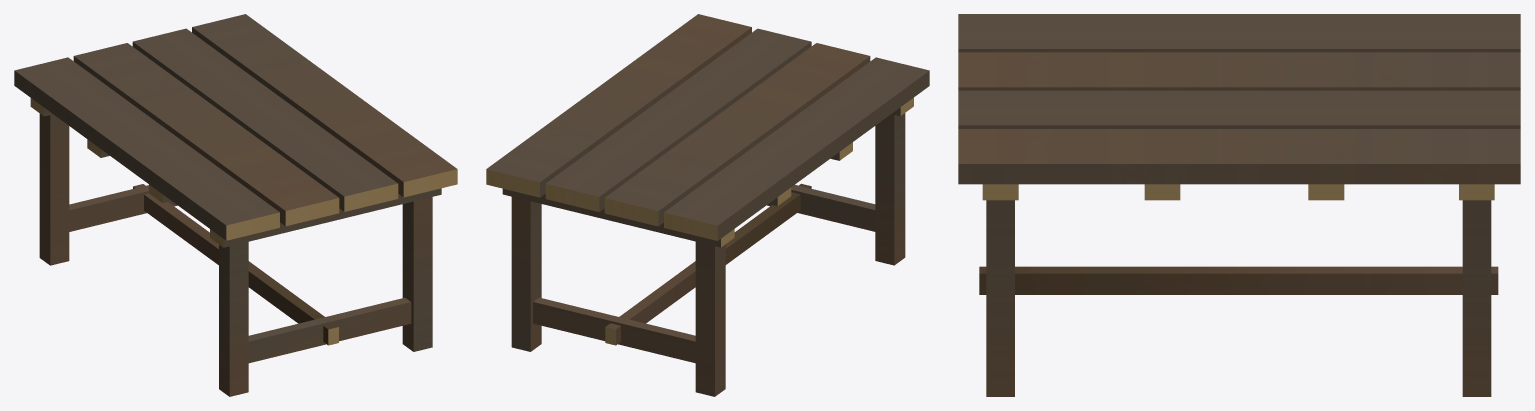
File: Table_LOD1.fbx
3 renders of one model, left to right at view 1: azimuth 30°, elevation 25°; view 2: azimuth 150°, elevation 25°; view 3: azimuth 270°, elevation 25°, orthographic. The views are drawn at different scales.
Parts seen in each view (by area): view 1: polySurface9716; view 2: polySurface9716; view 3: polySurface9716.
Boxes of the visible parts, x1,y1,x2,y2 form: polySurface9716: (14, 14, 457, 396); polySurface9716: (486, 14, 929, 396); polySurface9716: (958, 14, 1520, 396).
Size of the model in its own units: 158 by 119 by 250.
